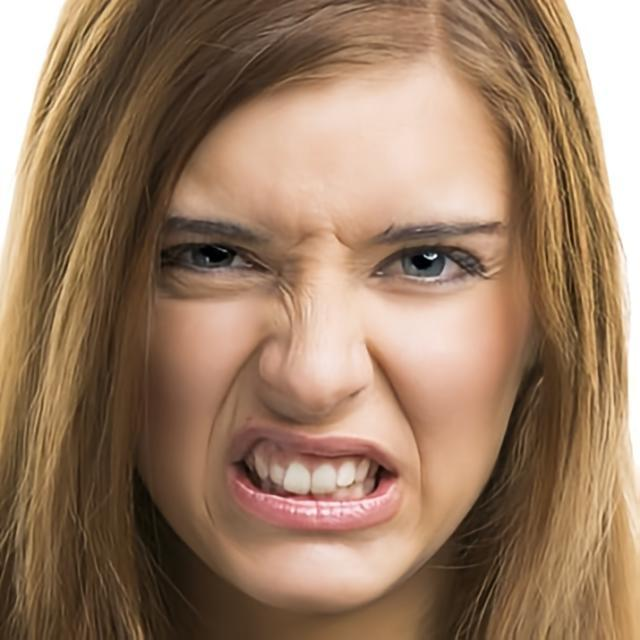disgust: (123, 50, 532, 616)
